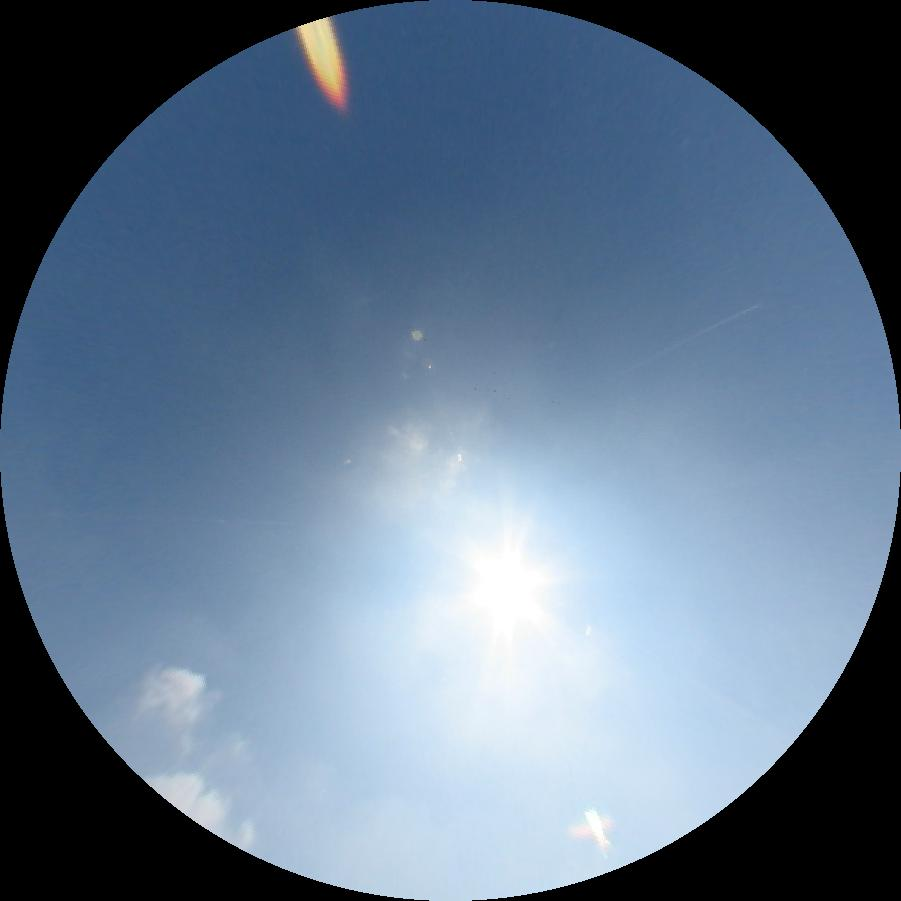contrail young: (621, 304, 758, 374)
sun: (483, 562, 540, 620)
